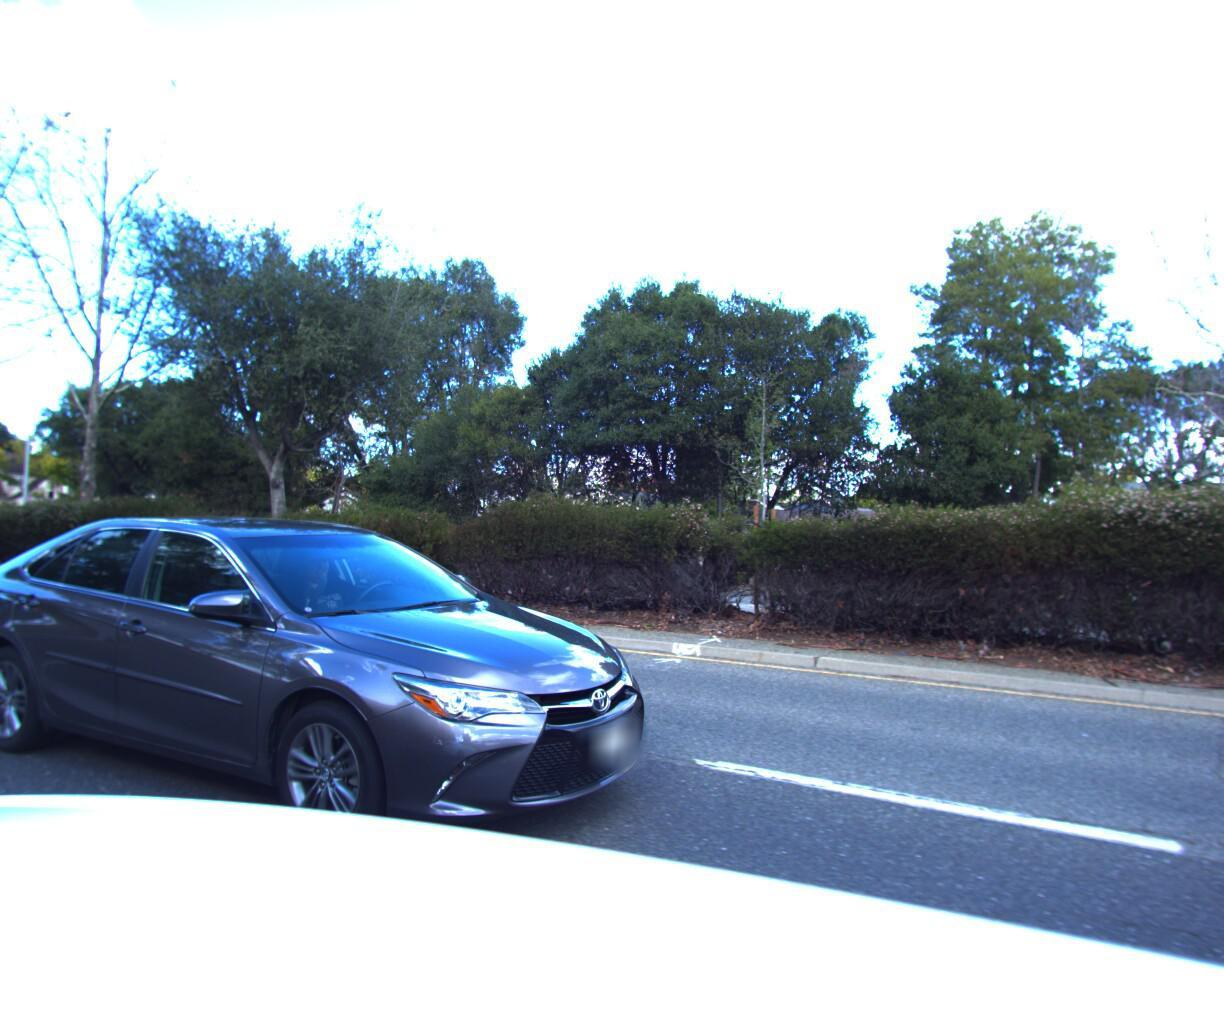car: (0, 492, 699, 926)
